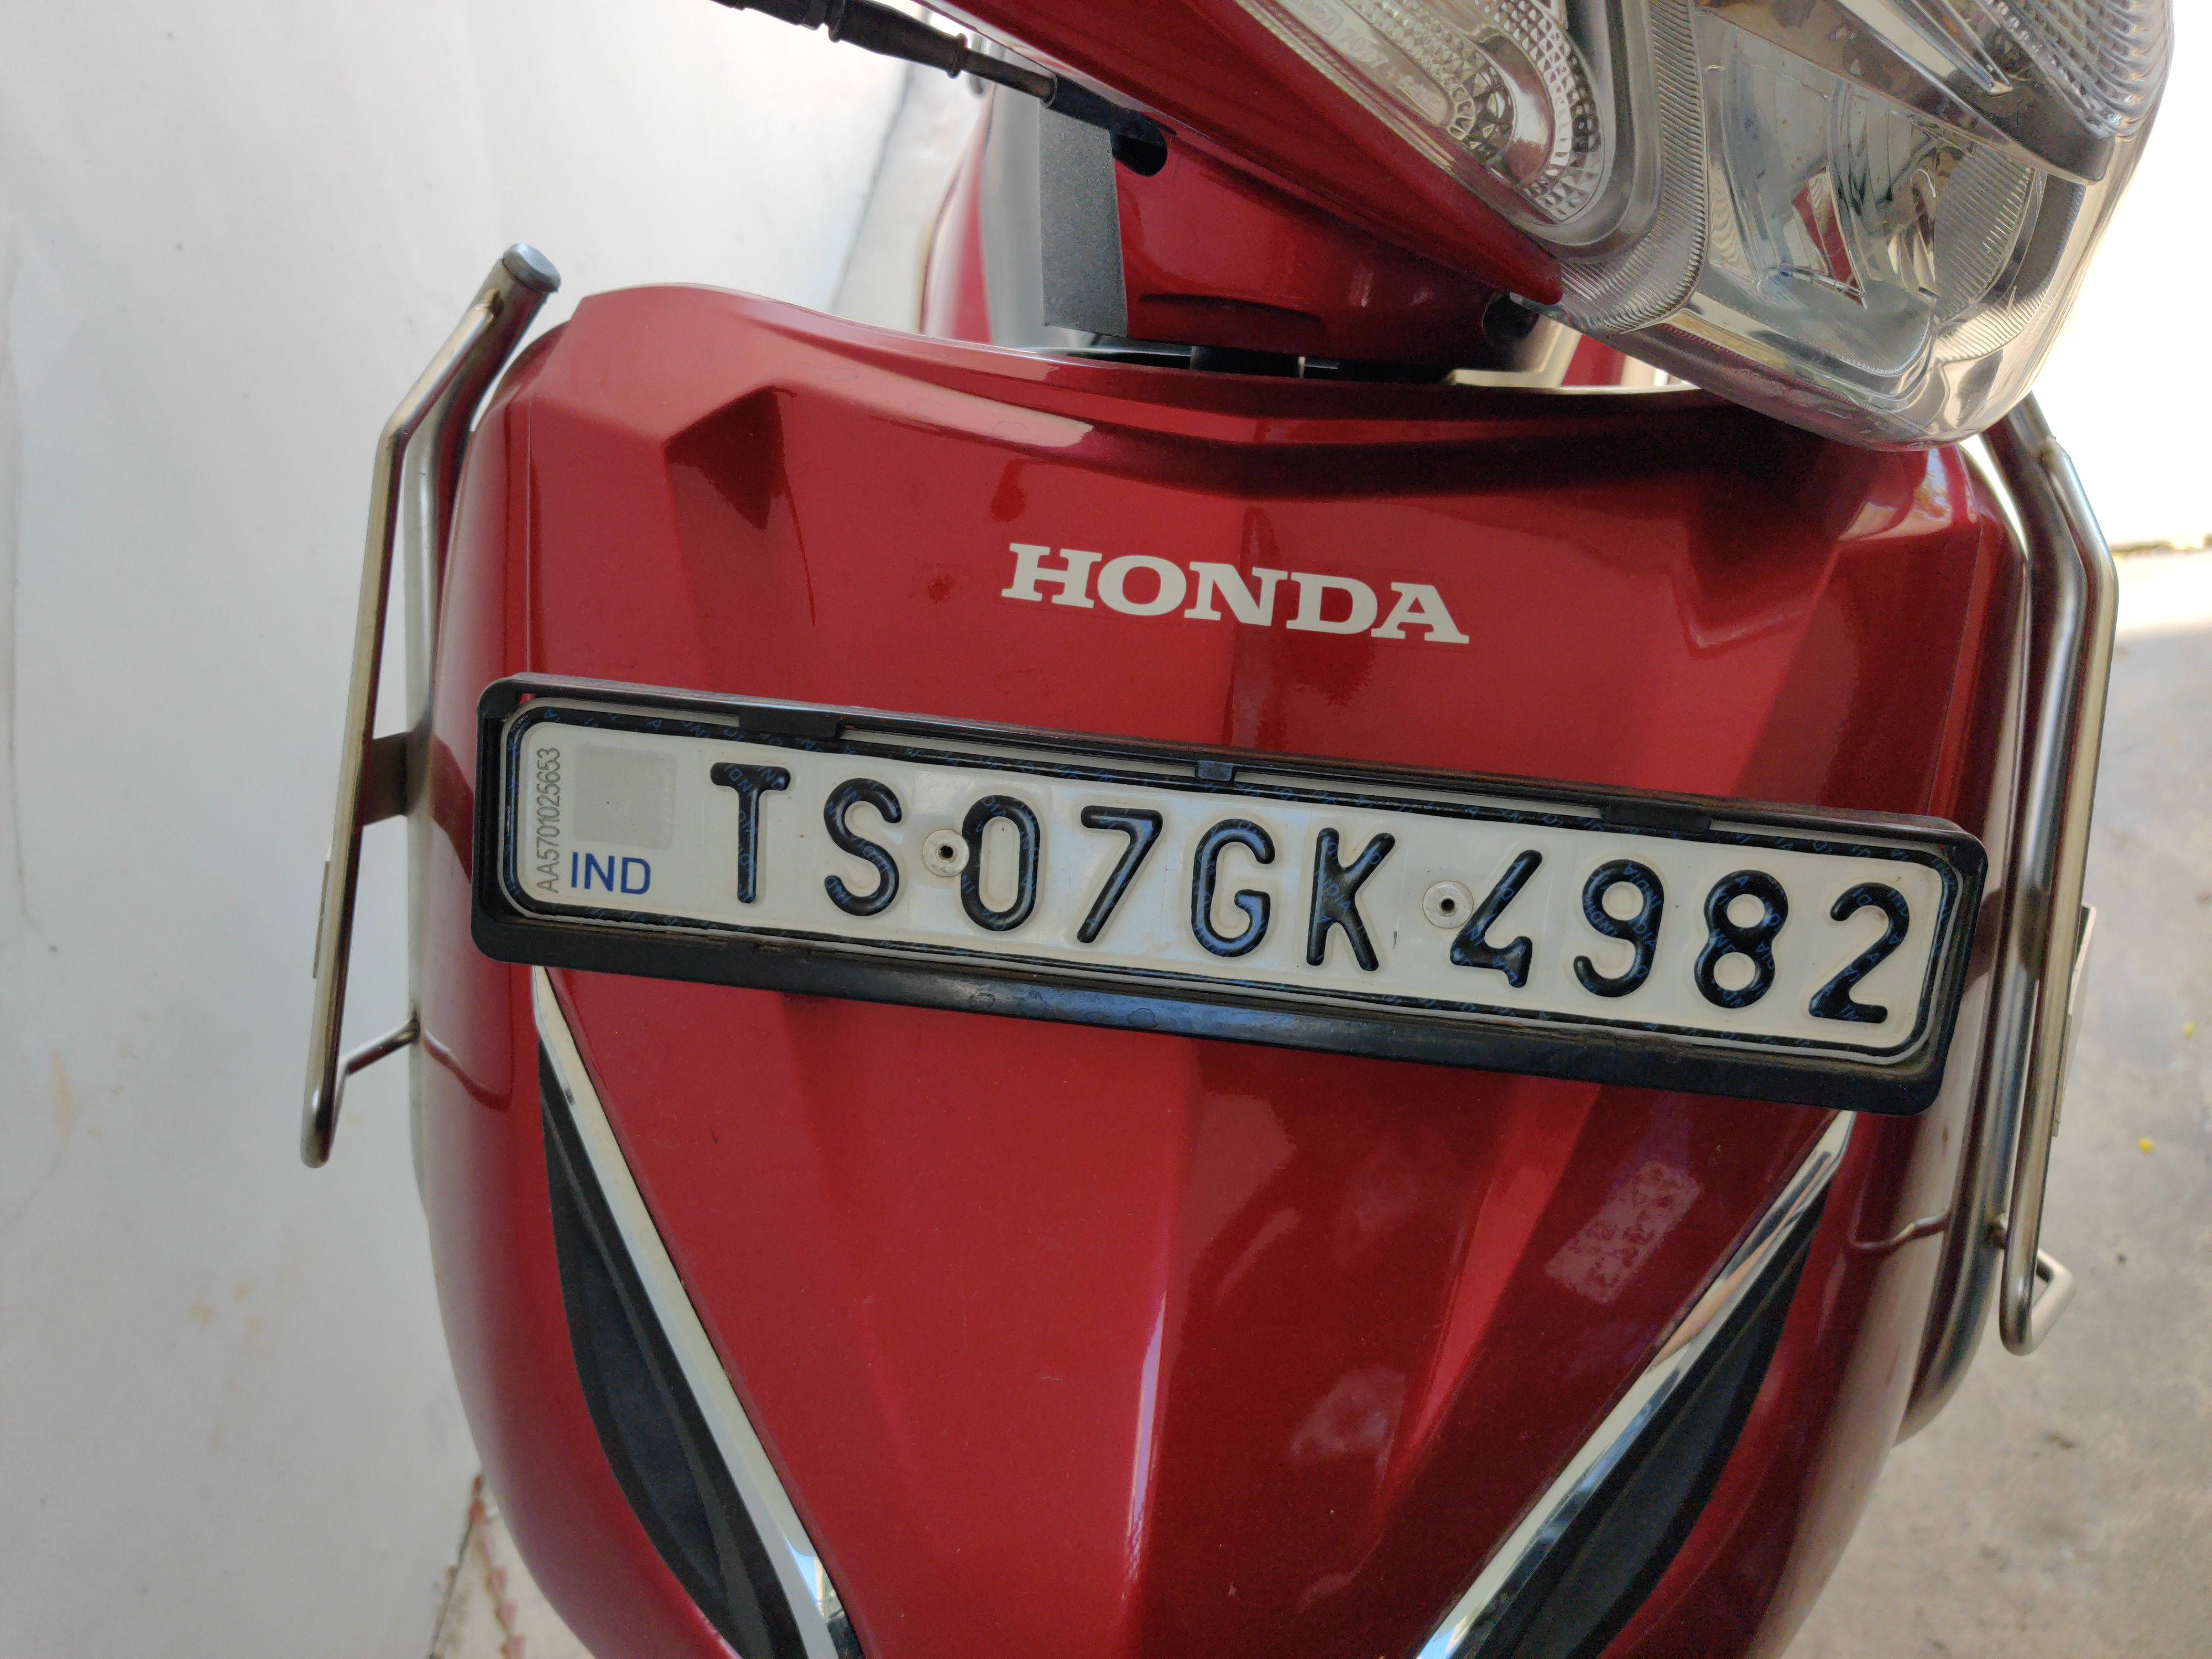plate: (466, 638, 1981, 1103)
